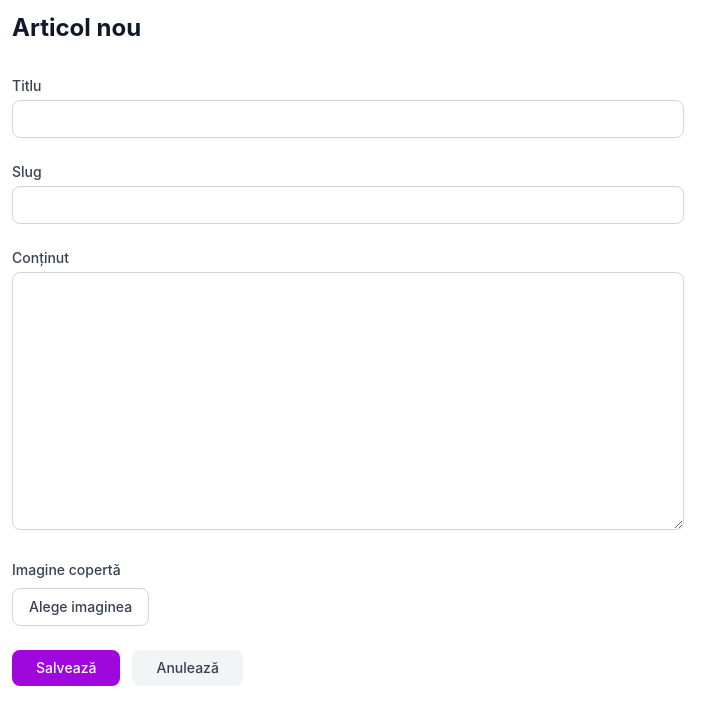
Test: New Blog Post Page (/admin/blog/new) › auto-generates slug from title
This screenshot has width=701, height=703.
In the field labelled "Titlu": (348, 119) left=12, top=100, right=684, bottom=138, type "Primul Articol de Blog"
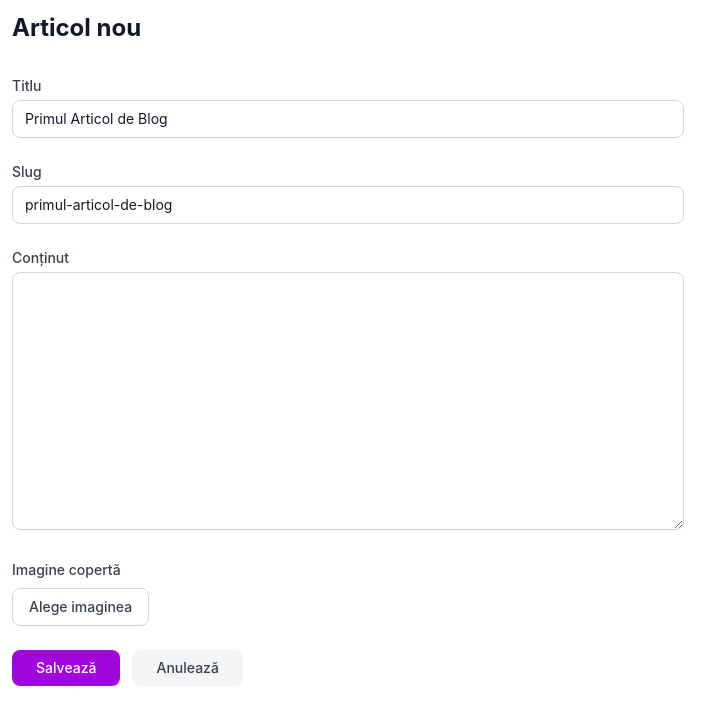
Check: the field labelled "Slug" holds "primul-articol-de-blog", box left=12, top=186, right=684, bottom=224
